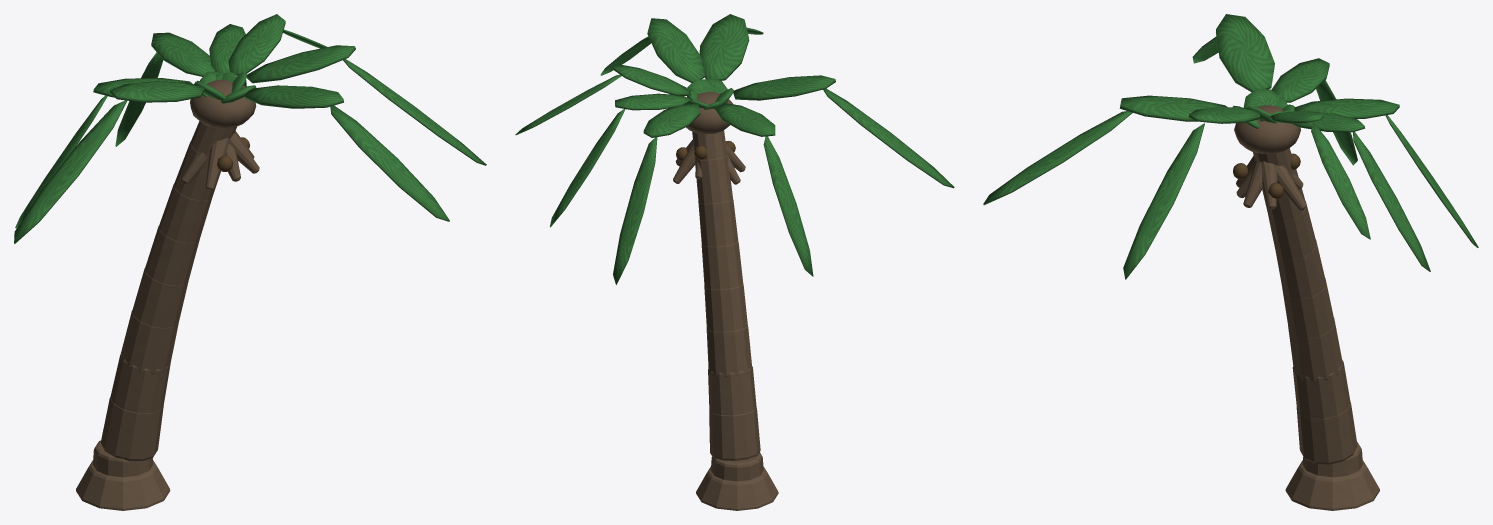
Rendered from palm_short.glb.
3 renders of one model, left to right at view 1: azimuth 30°, elevation 25°; view 2: azimuth 150°, elevation 25°; view 3: azimuth 270°, elevation 25°, orthographic. The views are drawn at different scales.
Parts seen in each view (by area): view 1: palm_short_root_flare, palm_short_frond4_s2, palm_short_trunk1, palm_short_frond5_s2, palm_short_trunk2, palm_short_trunk3, palm_short_trunk4, palm_short_trunk5, palm_short_frond6_s1, palm_short_trunk6, palm_short_frond0_s1, palm_short_crown (+12 smaller); view 2: palm_short_frond5_s1, palm_short_root_flare, palm_short_trunk1, palm_short_frond6_s1, palm_short_frond2_s2, palm_short_trunk2, palm_short_frond3_s2, palm_short_trunk3, palm_short_trunk4, palm_short_frond4_s2, palm_short_frond4_s1, palm_short_trunk5 (+11 smaller); view 3: palm_short_frond4_s1, palm_short_root_flare, palm_short_frond6_s2, palm_short_trunk1, palm_short_trunk2, palm_short_frond5_s2, palm_short_trunk3, palm_short_trunk4, palm_short_crown, palm_short_frond1_s2, palm_short_frond0_s2, palm_short_trunk5 (+12 smaller).
Boxes of the visible parts, left/top/right/bottom form: palm_short_root_flare: left=76, top=460, right=170, bottom=510; palm_short_frond4_s2: left=14, top=100, right=126, bottom=243; palm_short_trunk1: left=100, top=397, right=163, bottom=460; palm_short_frond5_s2: left=330, top=105, right=449, bottom=221; palm_short_trunk2: left=110, top=353, right=170, bottom=413; palm_short_trunk3: left=120, top=310, right=178, bottom=374; palm_short_trunk4: left=132, top=268, right=188, bottom=328; palm_short_trunk5: left=145, top=225, right=199, bottom=285; palm_short_frond6_s1: left=246, top=45, right=355, bottom=83; palm_short_trunk6: left=159, top=183, right=212, bottom=243; palm_short_frond0_s1: left=228, top=14, right=285, bottom=75; palm_short_crown: left=190, top=79, right=256, bottom=128; palm_short_frond5_s1: left=699, top=14, right=749, bottom=80; palm_short_root_flare: left=696, top=466, right=778, bottom=510; palm_short_trunk1: left=709, top=408, right=760, bottom=460; palm_short_frond6_s1: left=647, top=18, right=704, bottom=82; palm_short_frond2_s2: left=613, top=137, right=657, bottom=284; palm_short_trunk2: left=708, top=366, right=756, bottom=415; palm_short_frond3_s2: left=763, top=136, right=813, bottom=276; palm_short_trunk3: left=706, top=326, right=752, bottom=376; palm_short_trunk4: left=704, top=284, right=747, bottom=331; palm_short_frond4_s2: left=823, top=88, right=954, bottom=188; palm_short_frond4_s1: left=733, top=75, right=835, bottom=100; palm_short_trunk5: left=701, top=242, right=743, bottom=289; palm_short_frond4_s1: left=1216, top=14, right=1274, bottom=92; palm_short_root_flare: left=1285, top=460, right=1379, bottom=510; palm_short_frond6_s2: left=1123, top=123, right=1204, bottom=279; palm_short_trunk1: left=1296, top=402, right=1357, bottom=464; palm_short_trunk2: left=1292, top=359, right=1350, bottom=418; palm_short_frond5_s2: left=983, top=111, right=1132, bottom=205; palm_short_trunk3: left=1288, top=318, right=1343, bottom=381; palm_short_trunk4: left=1282, top=278, right=1334, bottom=338; palm_short_crown: left=1234, top=105, right=1300, bottom=153; palm_short_frond1_s2: left=1353, top=132, right=1430, bottom=271; palm_short_frond0_s2: left=1311, top=122, right=1370, bottom=239; palm_short_trunk5: left=1276, top=239, right=1326, bottom=298.
Bounding box in the file's own units: 4.74 × 4.69 × 4.64.
Materials: 3 (3 with a texture image).
